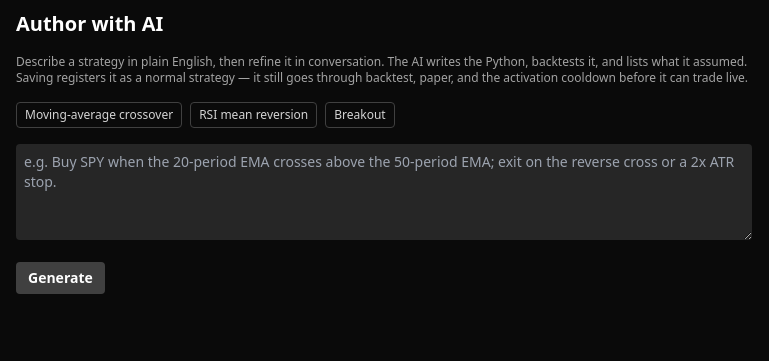
Scenario: AuthorWithAI › surfaces a budget (429) error
Replace the text in the text box with placeholder "Buy SPY when" with "x" at (384, 192), box [16,144,752,240]
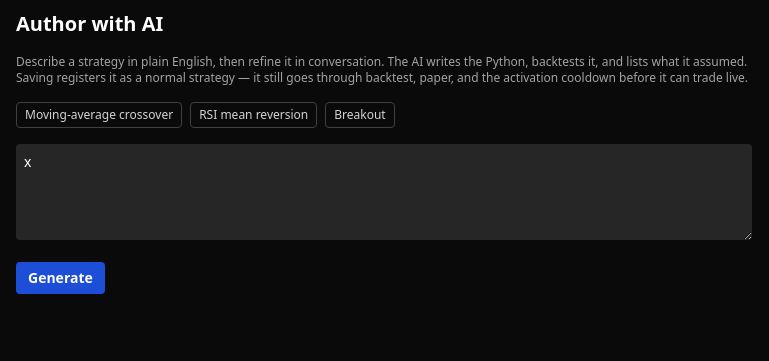
Click the button "Generate" at (60, 278), box [16,262,105,294]
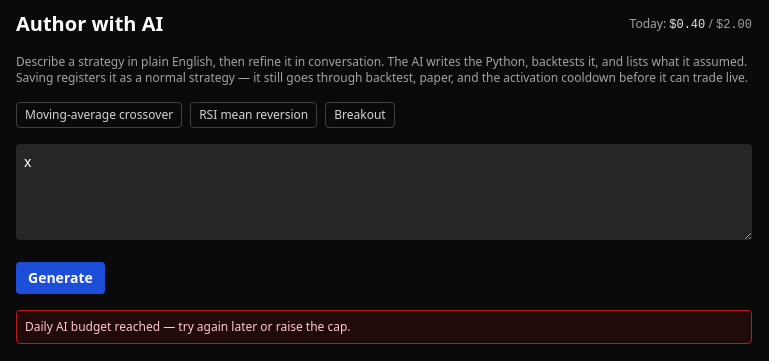
Expected: the text "Daily AI budget reached — try again later or raise the cap." is shown, [16,310,752,344]
